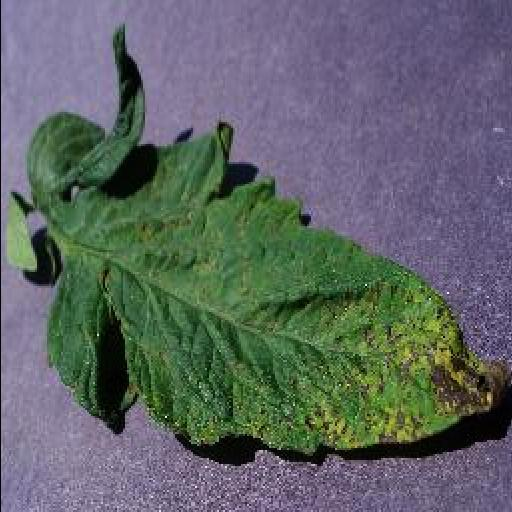disease_tomato: (46, 120, 512, 458)
